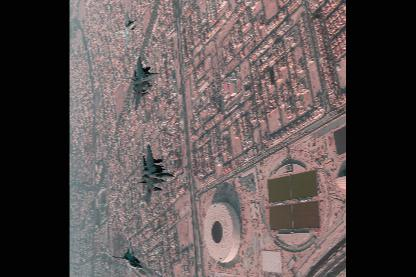F117: (127, 143, 174, 206), (120, 56, 159, 110)
RQ4: (112, 237, 144, 276), (112, 12, 138, 50)
